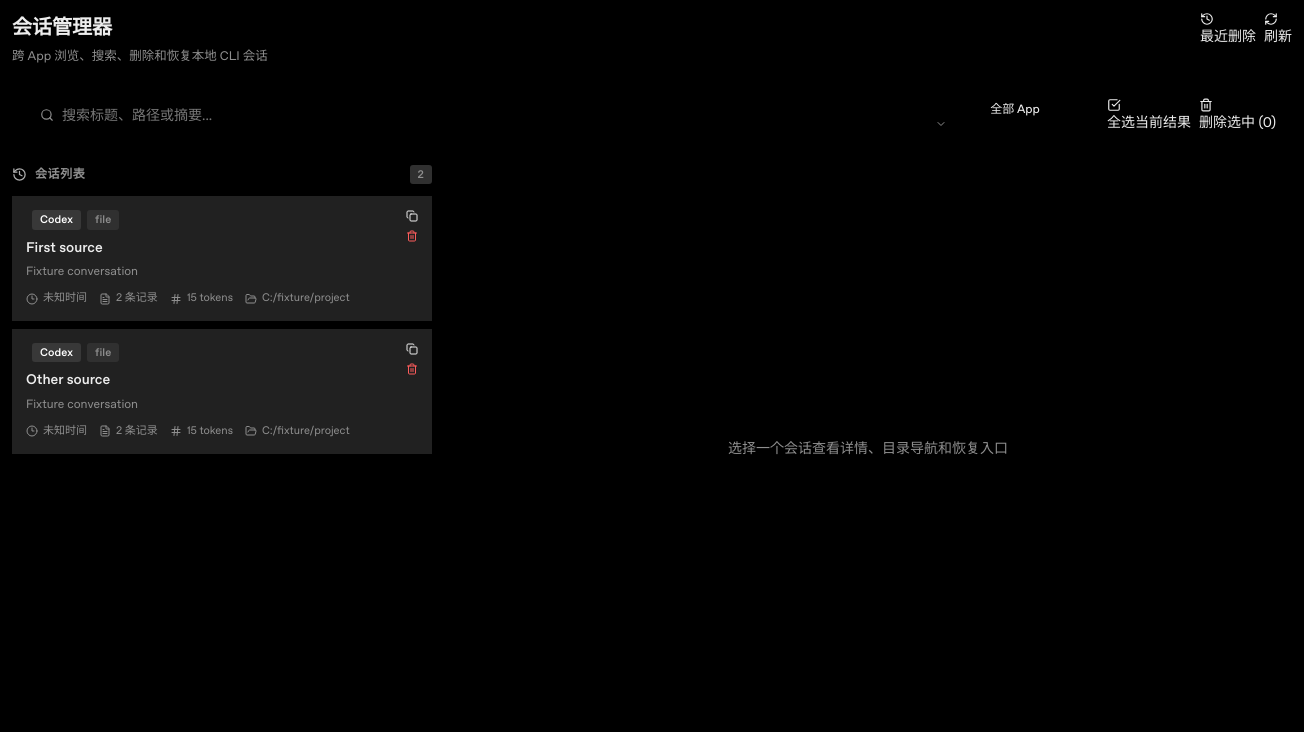
session page interactions › has a working close button during loading and ignores the late result
The width and height of the screenshot is (1304, 732).
Expected: the text "First source" is shown, top-left (26, 238), bottom-right (103, 254)
Step 1. Click the button "First source" → click(57, 220), box top-left (12, 196), bottom-right (432, 321)
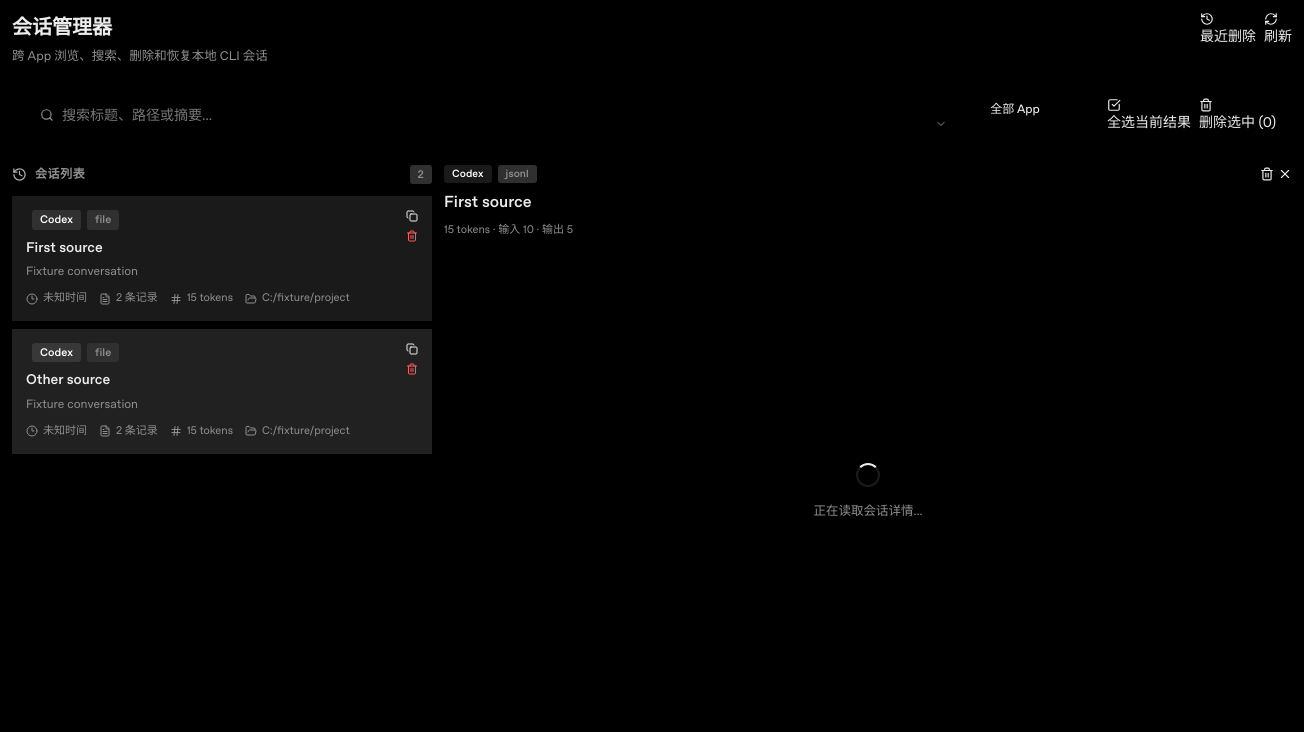
Step 2. Click the button named "关闭详情" → click(1285, 174), box top-left (1278, 167), bottom-right (1292, 181)
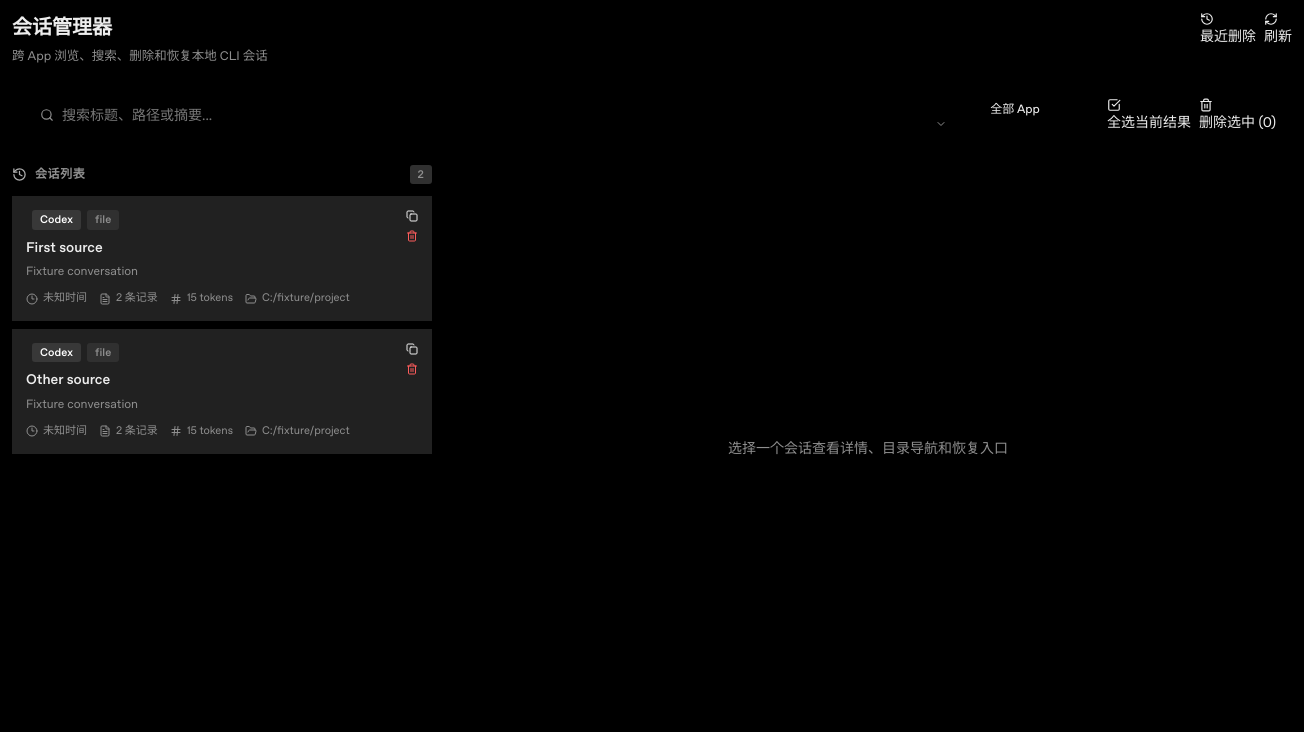
Expected: the button "关闭详情" is gone
